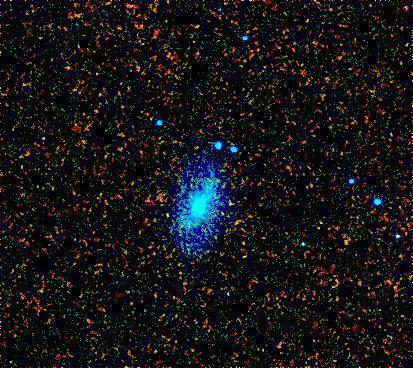star: (333, 228, 363, 258)
